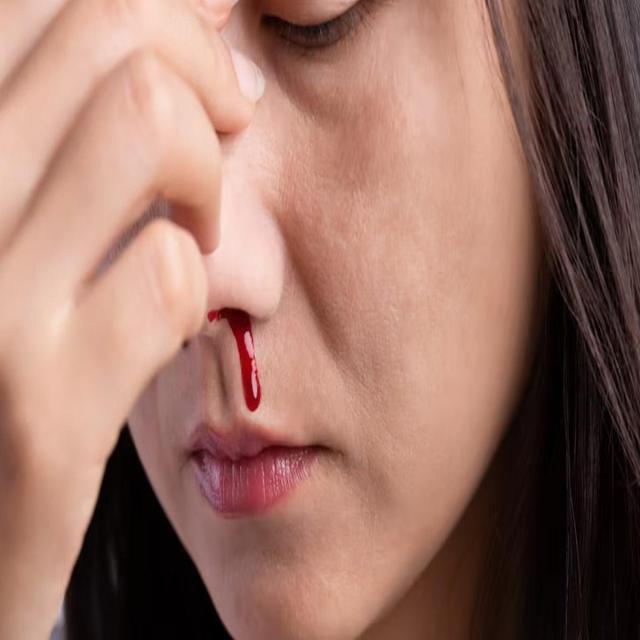flood: (208, 299, 265, 416)
